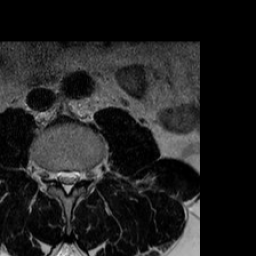CCS_normal: (63, 160, 70, 203)
LFS_normal: (79, 159, 87, 186)
LLS_normal: (70, 160, 79, 190)
RFS_normal: (47, 160, 55, 187)
RLS_normal: (55, 160, 63, 189)
